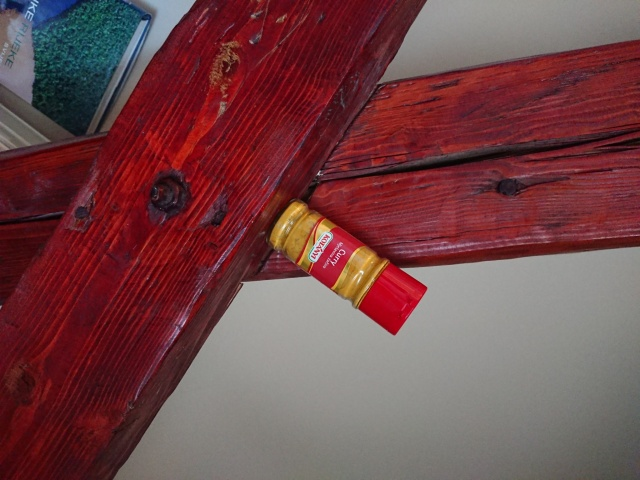Kotanyi Curry Spices Mix 70g: (263, 196, 430, 339)
